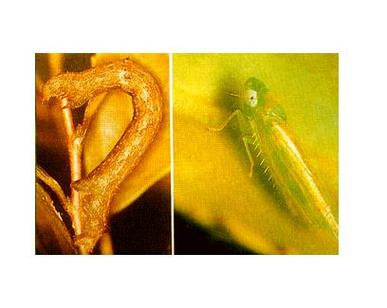Cicadellidae: (211, 77, 330, 224)
